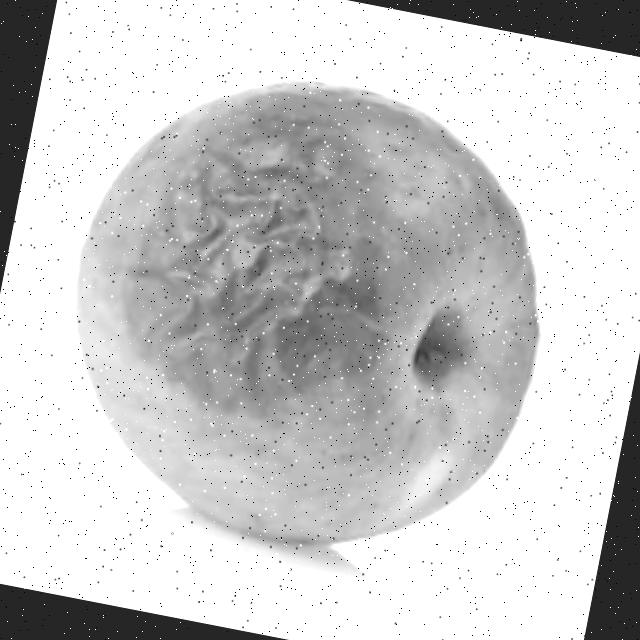Rotten: (26, 32, 585, 586)
